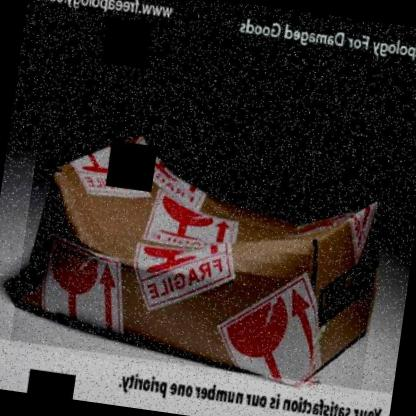box: (9, 118, 392, 395)
